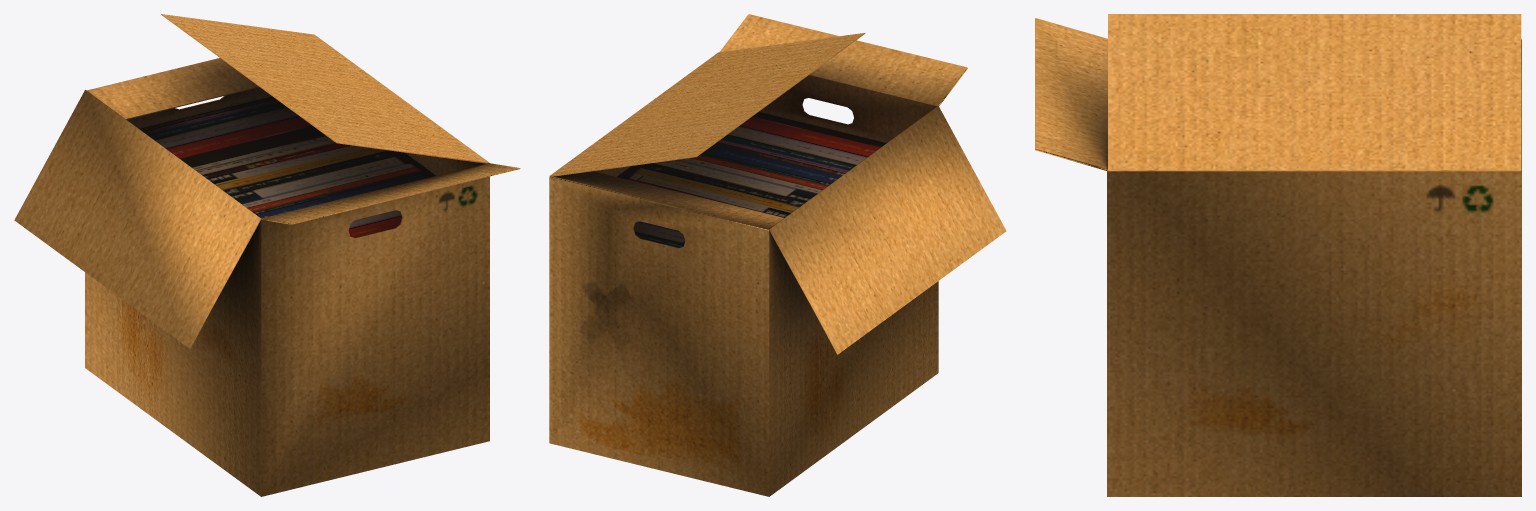
The model's file is karton_02.fbx.
The picture shows the model from 3 angles, left to right: view 1: azimuth 30°, elevation 25°; view 2: azimuth 150°, elevation 25°; view 3: azimuth 270°, elevation 25°; orthographic projection. The views are drawn at different scales.
Visible parts, largest first — view 1: Mesh; view 2: Mesh; view 3: Mesh.
Boxes of the visible parts, bbox=[...] form: Mesh: bbox=[14, 14, 520, 496]; Mesh: bbox=[549, 14, 1006, 496]; Mesh: bbox=[1035, 14, 1521, 496].
Bounding box in the file's own units: 59.03 × 63.07 × 70.42.
